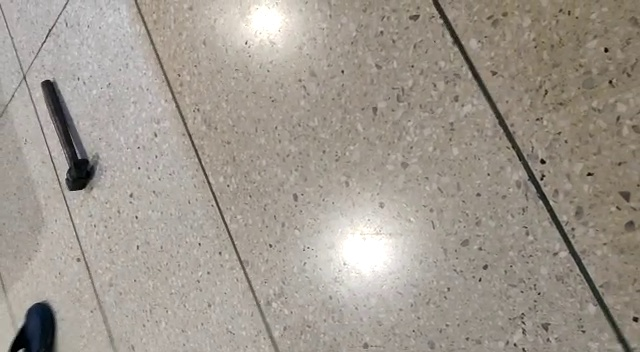hammer: (39, 78, 91, 194)
